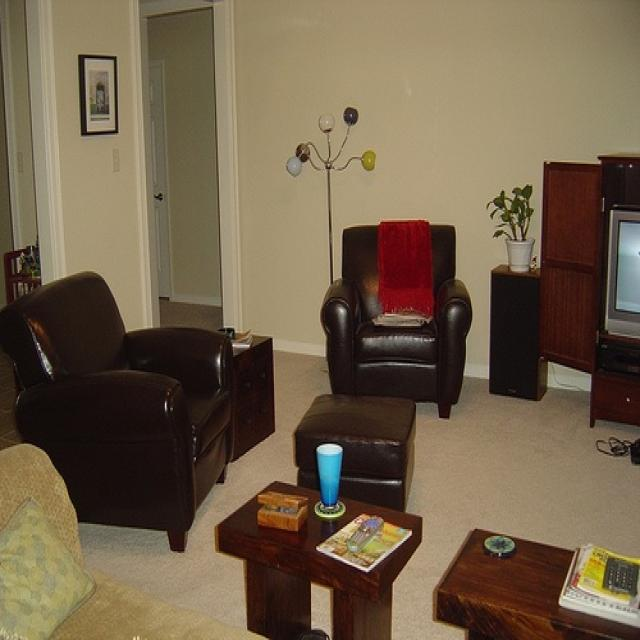chair: (4, 271, 233, 551), (321, 220, 469, 419)
tvmonitor: (606, 210, 640, 343)
